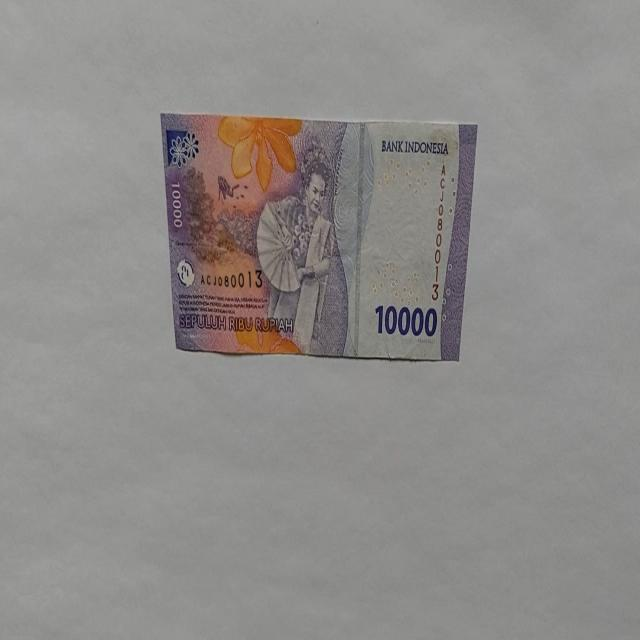sepuluh ribu rupiah: (160, 112, 478, 362)
